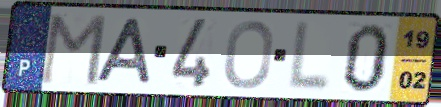0: (341, 21, 393, 95)
4: (167, 16, 214, 90)
A: (92, 16, 154, 87)
L: (284, 19, 333, 95)
M: (36, 12, 110, 88)
O: (222, 19, 276, 92)
